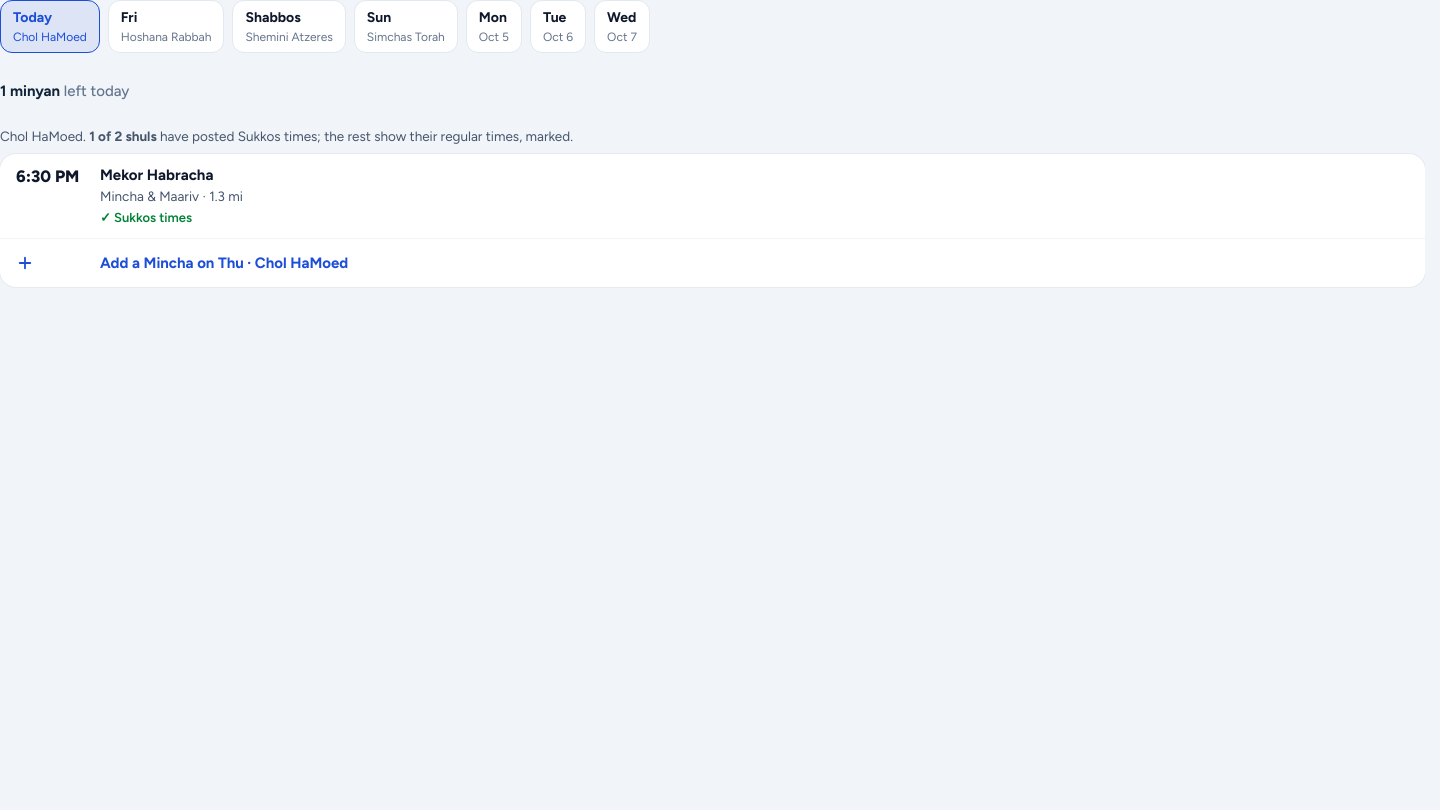
Test case: the Minyanim tab’s search (the user’s note 4) › “+ Add a minyan” is the list’s last row, on the day looked at, and opens choosing a shul
The width and height of the screenshot is (1440, 810).
Click the button with test id "add-minyan". click: click(224, 263)
box: [0, 239, 1425, 287]
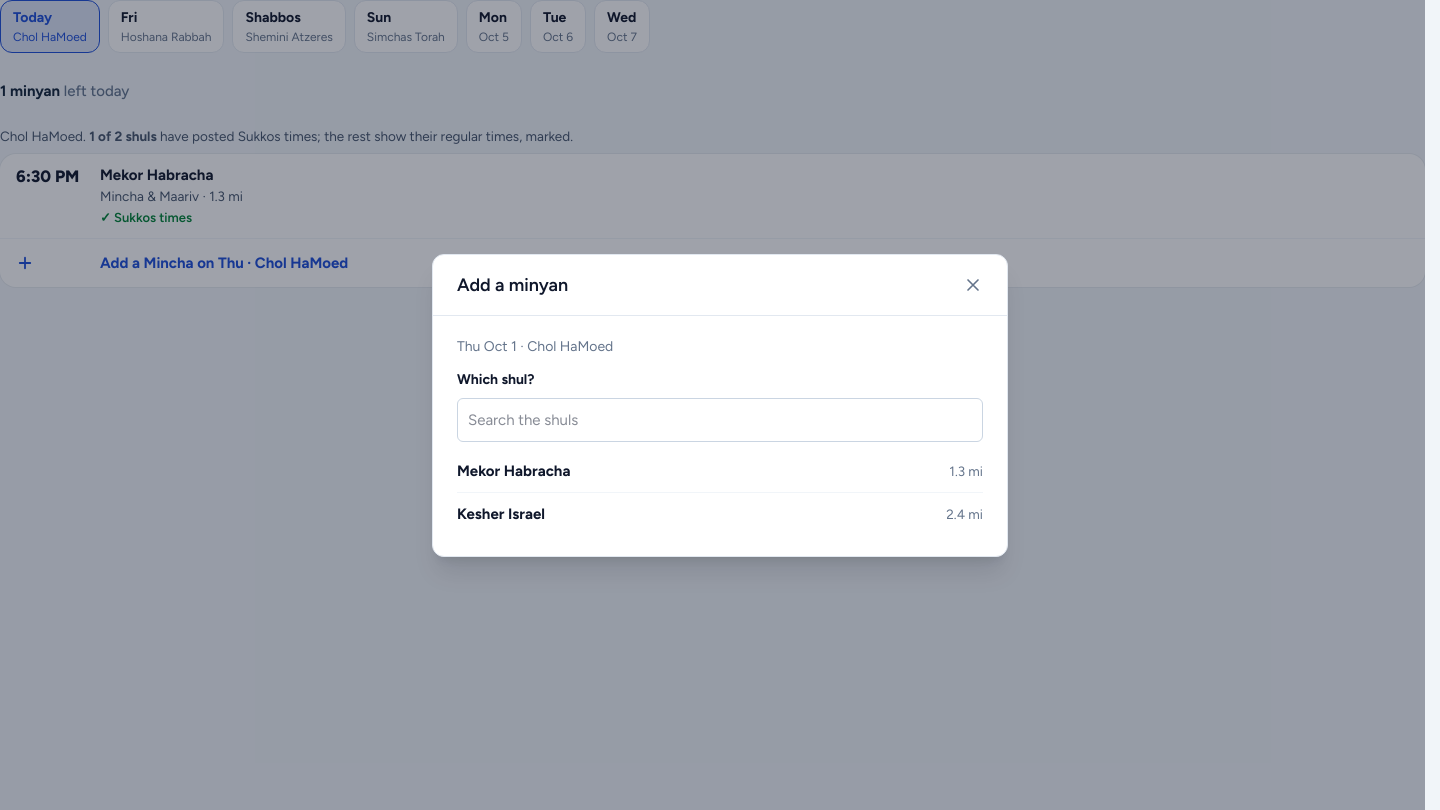
Check: the element with test id "add-minyan-shul" shows "Which shul?", box [457, 370, 534, 388]
